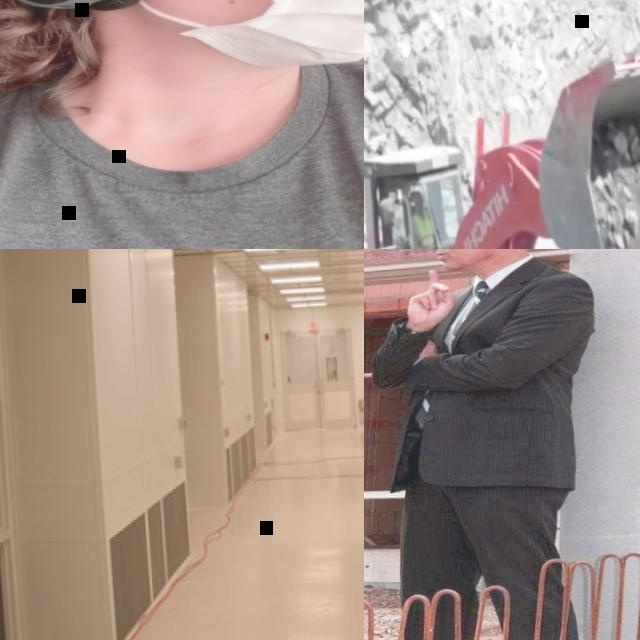Hardhat: (411, 191, 422, 203)
Mask: (133, 0, 364, 81)
NO-Mask: (432, 249, 497, 272), (415, 207, 422, 217)
NO-Safety Vest: (0, 66, 364, 249), (388, 271, 601, 489)
Person: (364, 249, 624, 640), (0, 0, 364, 249), (406, 190, 437, 249)
Safety Vest: (411, 213, 433, 249)
machinery: (364, 31, 640, 249)
